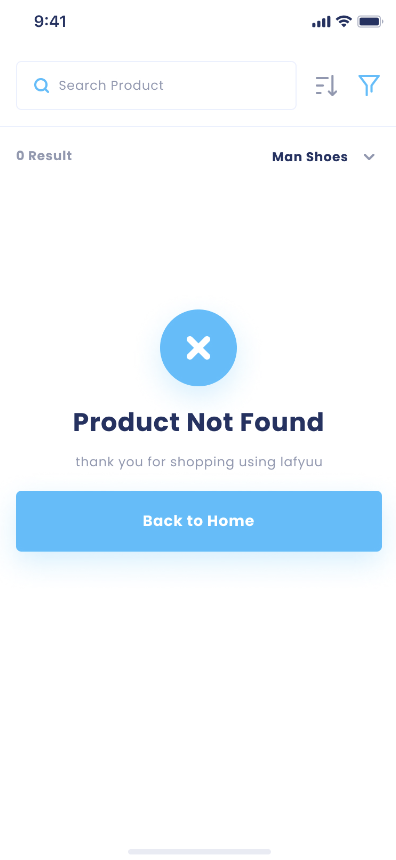Button: (14, 488, 384, 555)
